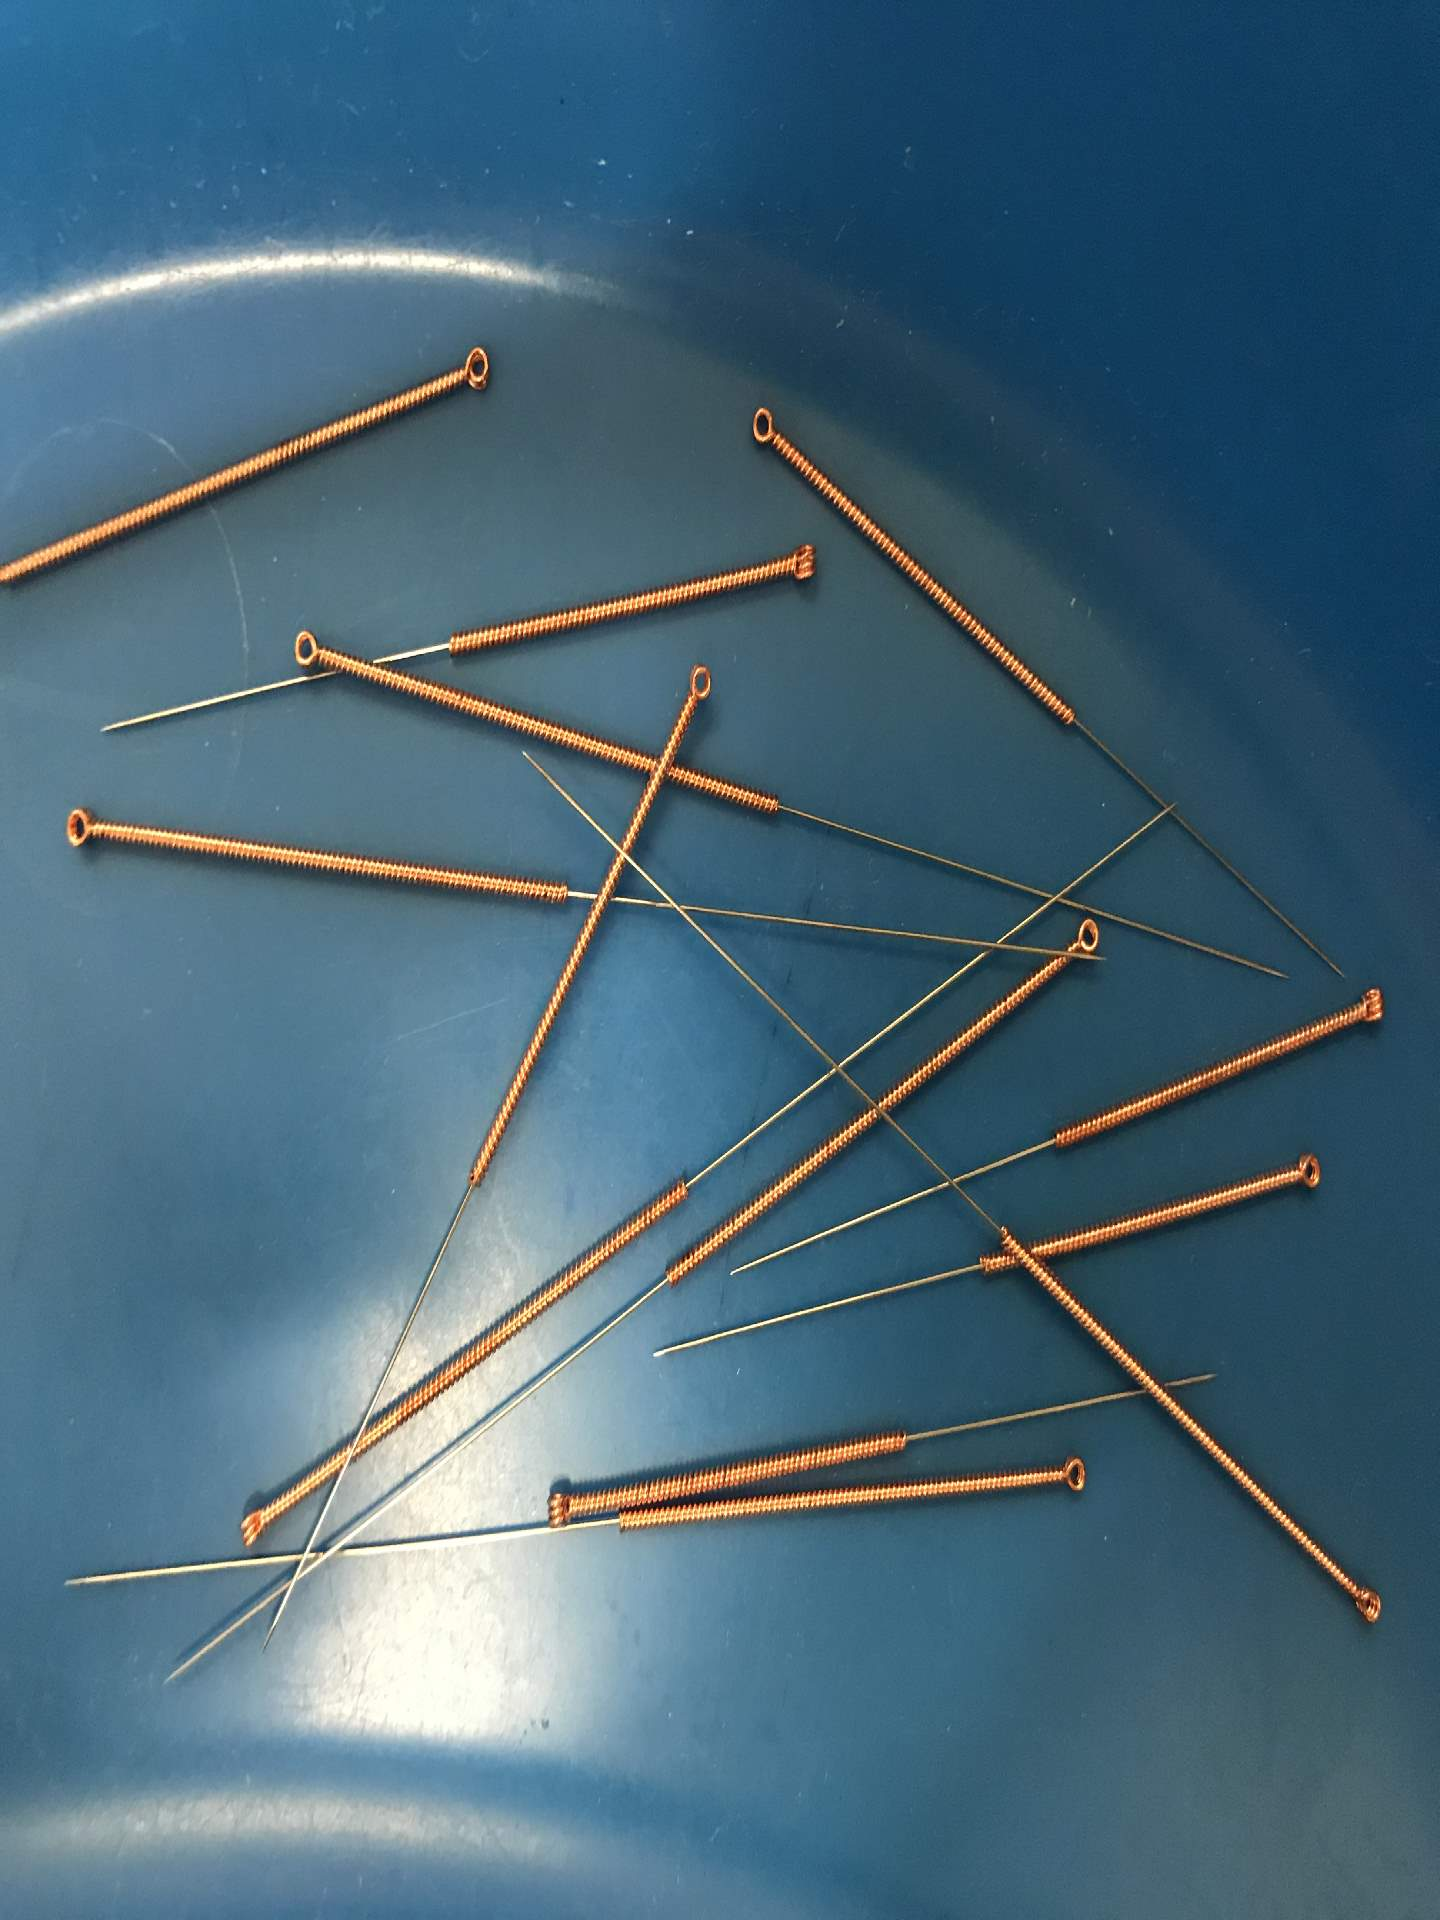needle: (431, 330, 514, 401), (729, 386, 799, 463), (44, 795, 113, 862), (281, 621, 348, 689), (224, 1483, 286, 1556), (531, 1469, 593, 1536), (762, 537, 827, 599), (1272, 1141, 1337, 1202), (1336, 1569, 1393, 1637), (1334, 974, 1393, 1036), (669, 655, 725, 717), (1051, 912, 1113, 968), (1038, 1448, 1100, 1503)
